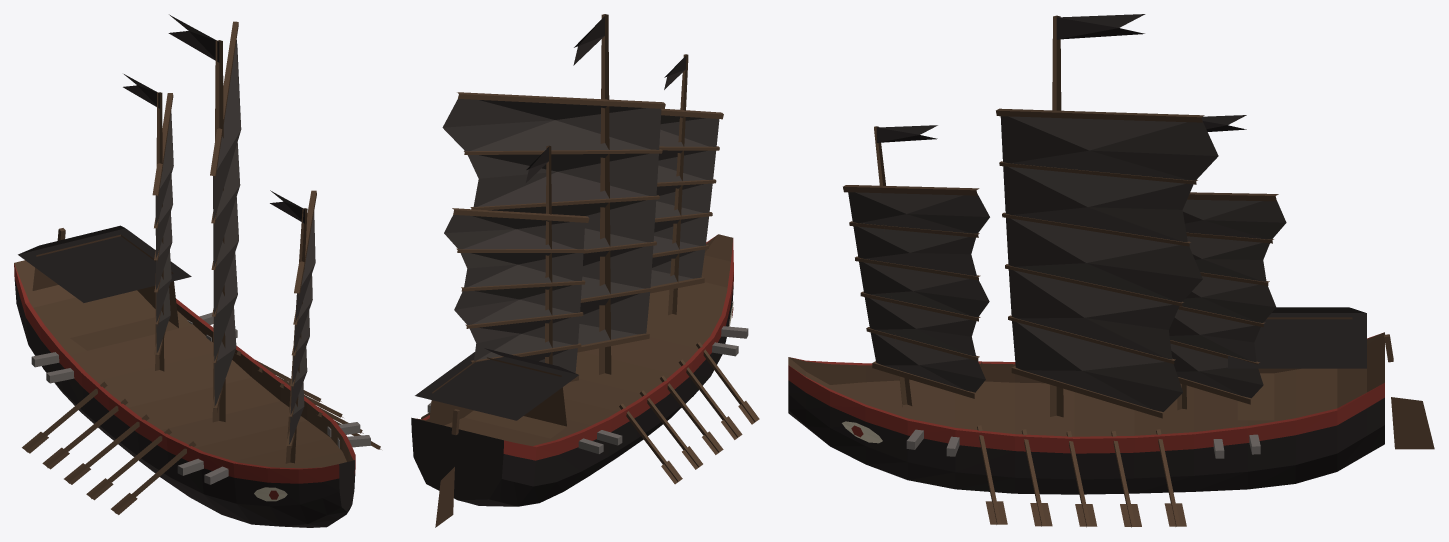
The model's file is pirate_corsair.glb.
3 renders of one model, left to right at view 1: azimuth 30°, elevation 25°; view 2: azimuth 150°, elevation 25°; view 3: azimuth 270°, elevation 25°, orthographic. The views are drawn at different scales.
Parts seen in each view (by area): view 1: pirate_corsair; view 2: pirate_corsair; view 3: pirate_corsair.
Boxes of the visible parts, box(x1,y1,x2,y2) form: pirate_corsair: box(14, 14, 381, 527); pirate_corsair: box(411, 14, 759, 527); pirate_corsair: box(788, 14, 1434, 527).
Bounding box in the file's own units: 8.4 × 12.78 × 16.25.
